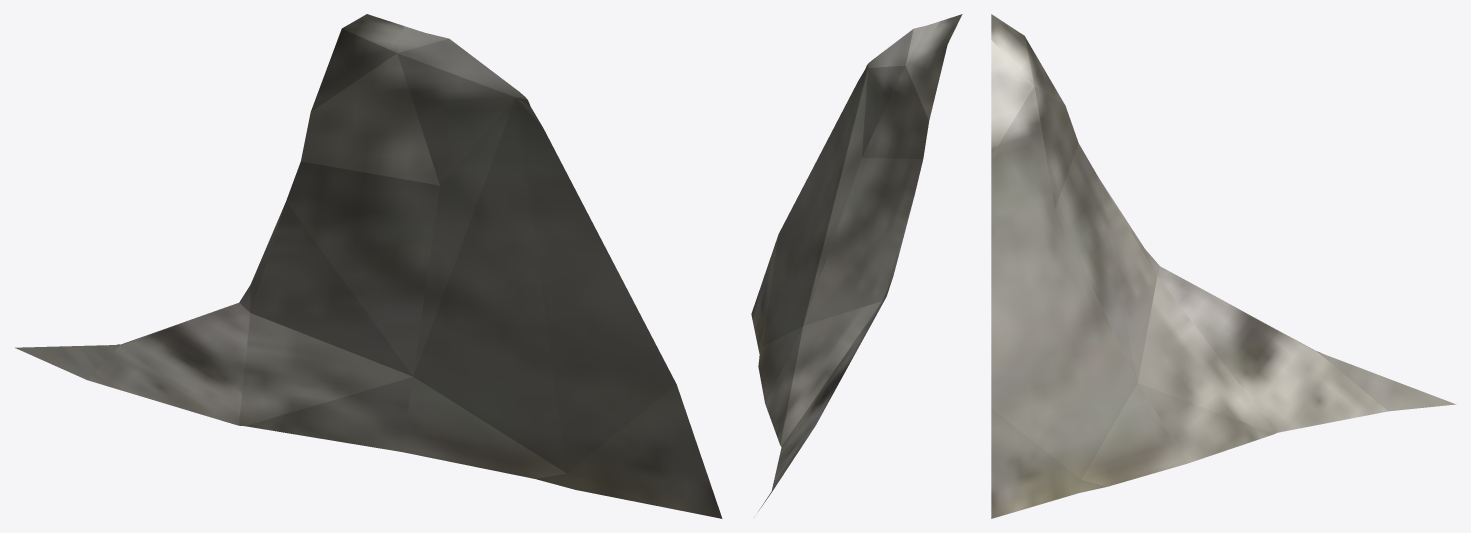
3 renders of one model, left to right at view 1: azimuth 30°, elevation 25°; view 2: azimuth 150°, elevation 25°; view 3: azimuth 270°, elevation 25°, orthographic. The views are drawn at different scales.
Size of the model in its own units: 0.3272 by 0.5204 by 0.5619.
1 material, 1 textured.
